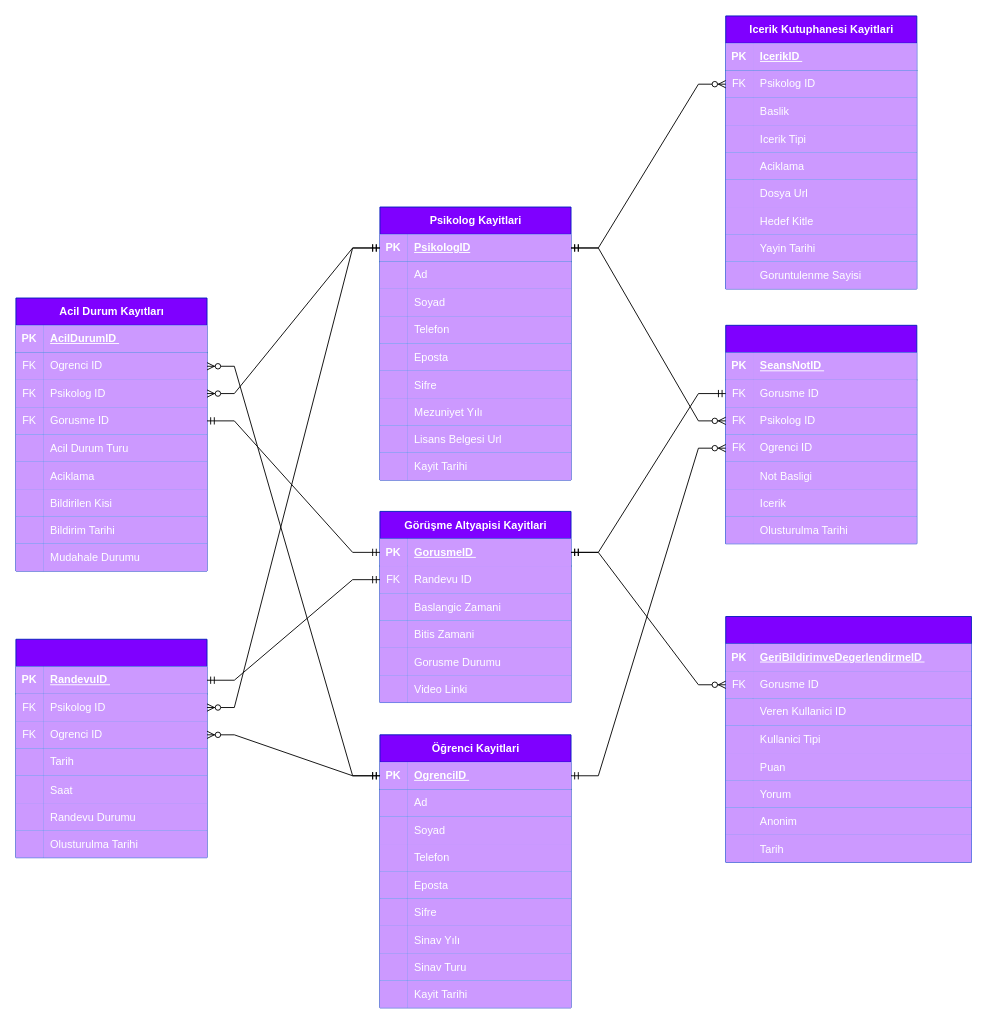
The diagram is 987 pixels wide and 1024 high, and some of its shapes have lost their labels. Here are the shapes that lost their labels. From the top down, the box of each, then its label:
(725, 324, 917, 544): Seans Notlari Kayitlari
(15, 638, 207, 858): Randevu Kayitlari
(725, 616, 971, 862): Geri Bildirim ve Degerlendirme Kayitlari
